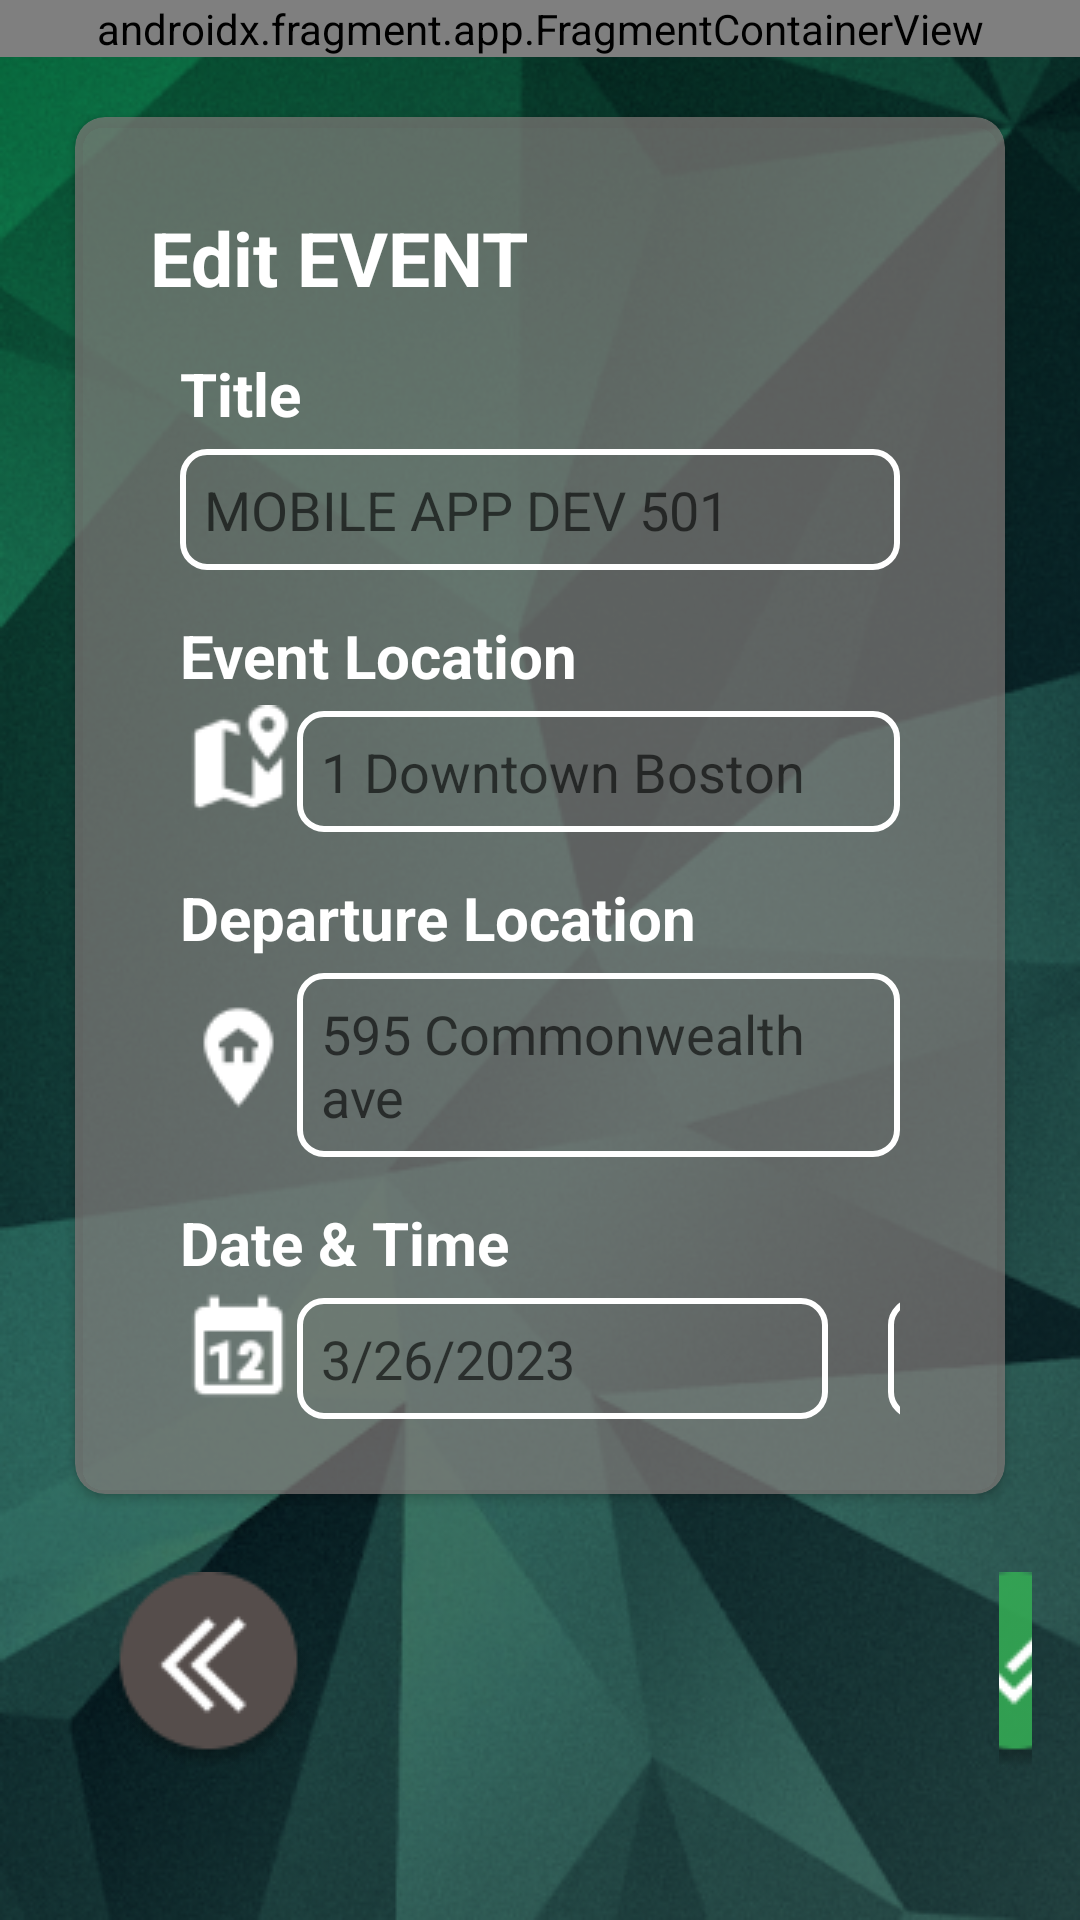

Named icons in this screenshot (1080px×1920px) and their centers, (x,y):
back: (208,1672)
confirm: (1015,1661)
dep loc: (238,1057)
